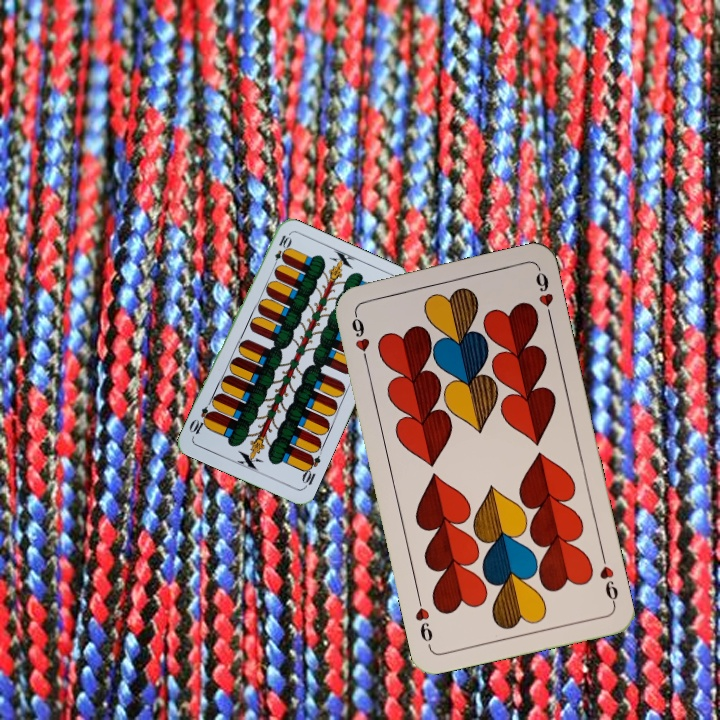E10: (298, 450, 323, 491), (269, 231, 293, 271)
H9: (595, 549, 621, 608), (347, 307, 372, 366)
